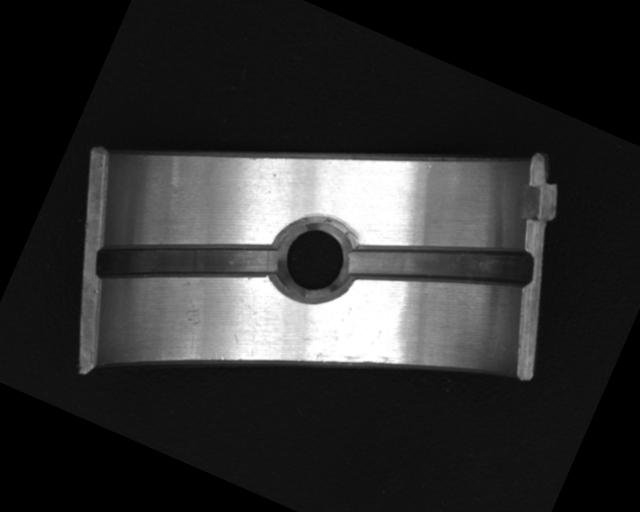gap: (88, 184, 286, 341), (345, 190, 537, 341)
hole: (263, 207, 365, 313)
